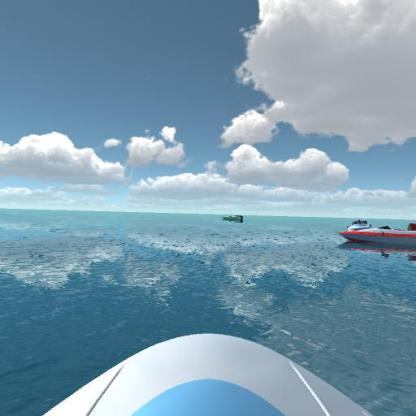usv0: (219, 209, 251, 226)
usv1: (344, 213, 379, 234)
usv3: (335, 219, 415, 251)
